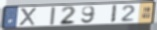2: (60, 6, 78, 25), (120, 5, 138, 23)
9: (81, 6, 97, 24)
I: (110, 4, 119, 24), (49, 6, 57, 26)
X: (19, 7, 38, 27)
